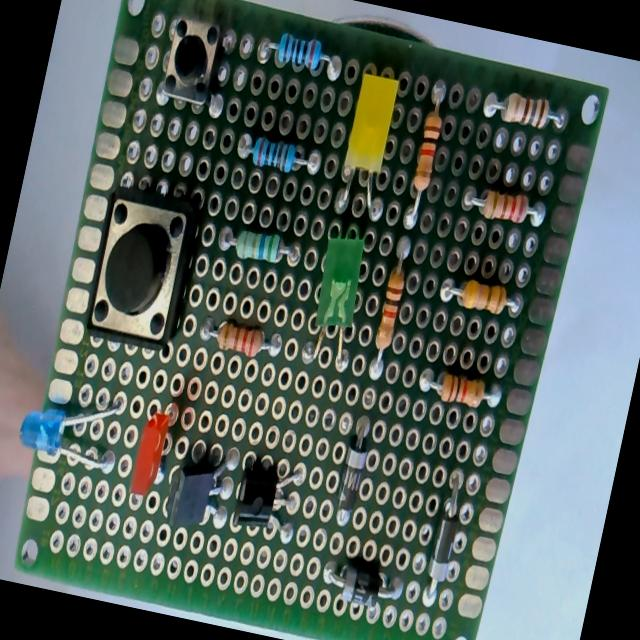diode: (420, 480, 470, 604), (330, 414, 374, 530), (319, 554, 404, 614)
led: (300, 222, 375, 371), (332, 72, 406, 220), (15, 378, 126, 472), (127, 404, 180, 504)
resistor: (367, 236, 413, 376), (401, 94, 447, 229), (256, 27, 344, 81), (235, 132, 322, 180), (482, 86, 566, 134), (198, 315, 282, 362), (417, 367, 501, 413), (218, 222, 300, 268), (464, 183, 544, 230), (441, 273, 521, 318)
switch: (81, 184, 200, 352), (158, 16, 224, 107)
transistor: (225, 450, 308, 545), (160, 440, 240, 538)
